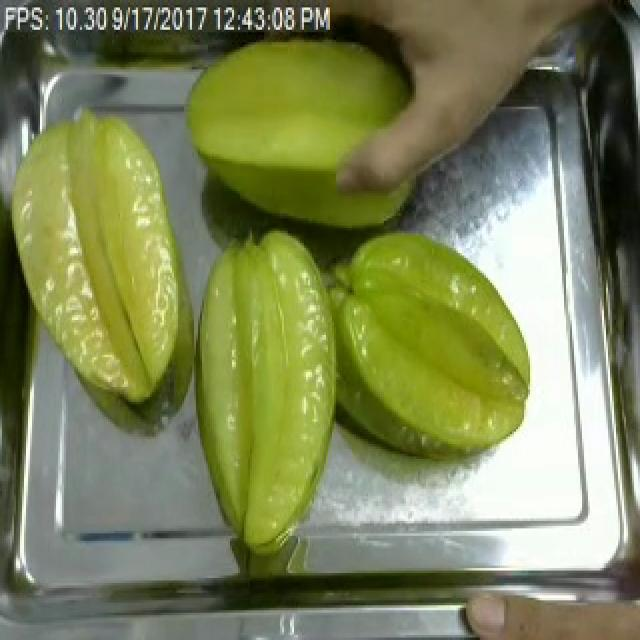fruit: (0, 99, 198, 414), (302, 0, 630, 189), (178, 213, 352, 568), (172, 18, 438, 250), (322, 206, 542, 469), (454, 568, 640, 640)
